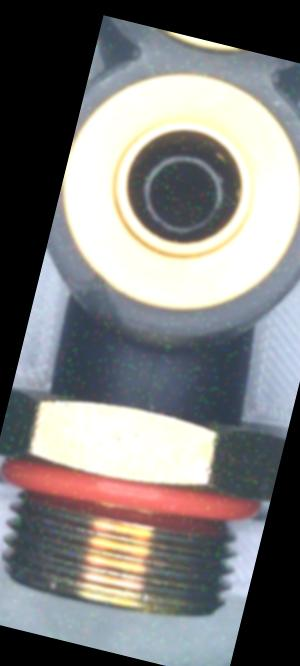bump: (69, 277, 131, 329)
joint line: (133, 344, 166, 411)
